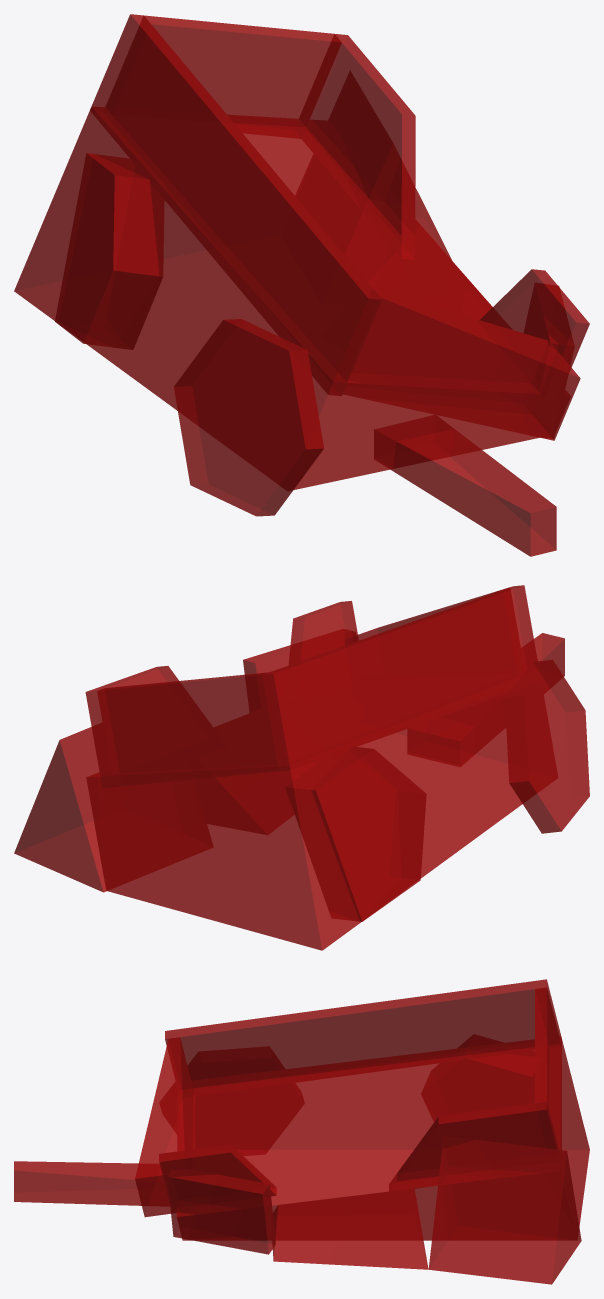
The model's file is SM_Prop_Wagon_Broken_01_Collision.fbx.
3 renders of one model, top to bottom at view 1: azimuth 30°, elevation 25°; view 2: azimuth 150°, elevation 25°; view 3: azimuth 270°, elevation 25°, orthographic. The views are drawn at different scales.
Visible parts, largest first — view 1: SM_Prop_Wagon_Broken_01_Collision; view 2: SM_Prop_Wagon_Broken_01_Collision; view 3: SM_Prop_Wagon_Broken_01_Collision.
Part boxes in pixels (box(x1,y1,x2,y2)): SM_Prop_Wagon_Broken_01_Collision: box(14, 14, 589, 556); SM_Prop_Wagon_Broken_01_Collision: box(14, 585, 589, 950); SM_Prop_Wagon_Broken_01_Collision: box(14, 979, 589, 1284).
Size of the model in its own units: 340 by 224 by 541.
